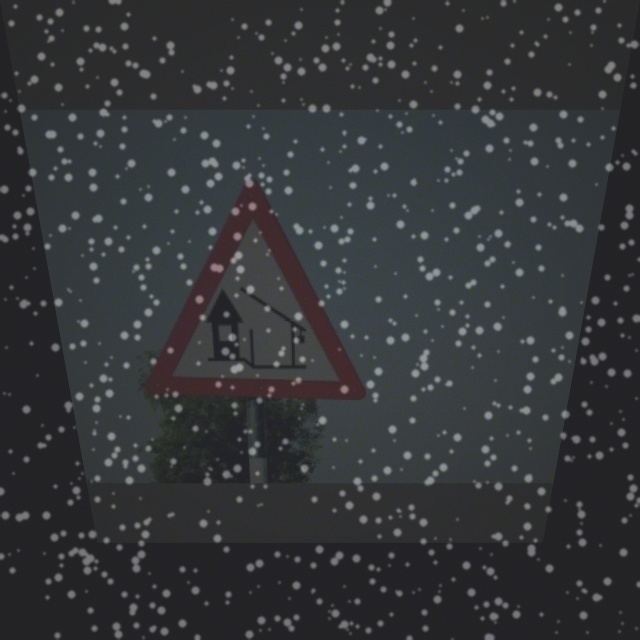Barrier_Ahead: (126, 175, 374, 402)
